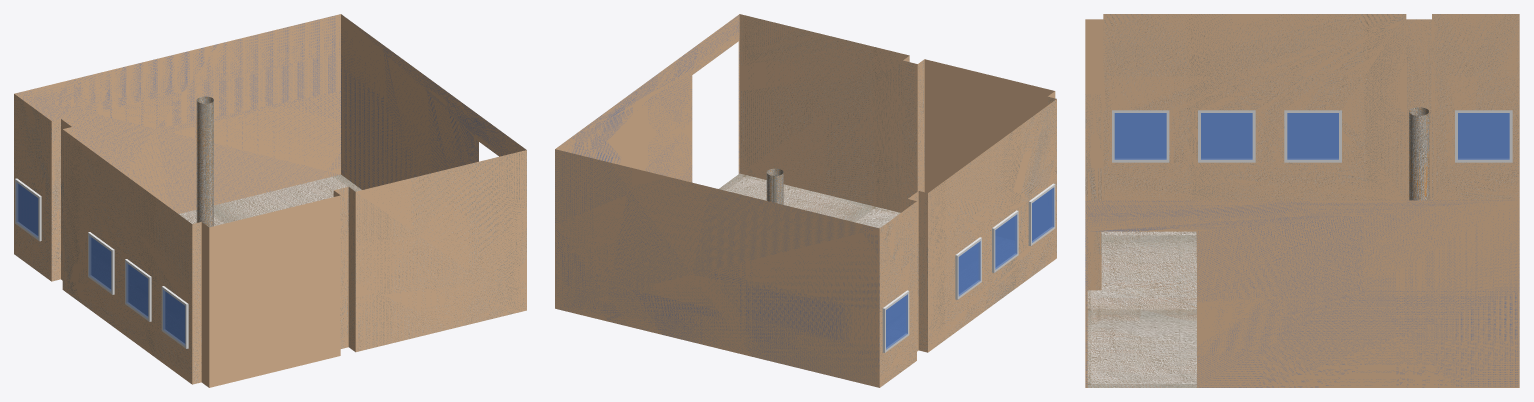
The model's file is AUL021.obj.
The picture shows the model from 3 angles, left to right: view 1: azimuth 30°, elevation 25°; view 2: azimuth 150°, elevation 25°; view 3: azimuth 270°, elevation 25°; orthographic projection. The views are drawn at different scales.
Parts seen in each view (by area): view 1: Mesh13 AUL021 Model, Mesh14 AUL021 Model, Mesh1 Group1 AUL021 Model, Mesh4 Group2 AUL021 Model, Mesh7 Group3 AUL021 Model, Mesh10 Group4 AUL021 Model; view 2: Mesh13 AUL021 Model, Mesh4 Group2 AUL021 Model, Mesh1 Group1 AUL021 Model, Mesh7 Group3 AUL021 Model, Mesh10 Group4 AUL021 Model, Mesh14 AUL021 Model; view 3: Mesh13 AUL021 Model, Mesh1 Group1 AUL021 Model, Mesh4 Group2 AUL021 Model, Mesh7 Group3 AUL021 Model, Mesh10 Group4 AUL021 Model, Mesh14 AUL021 Model.
Part boxes in pixels (left/top/right/bottom): Mesh13 AUL021 Model: left=14, top=14, right=526, bottom=387; Mesh14 AUL021 Model: left=196, top=96, right=213, bottom=227; Mesh1 Group1 AUL021 Model: left=161, top=286, right=188, bottom=348; Mesh4 Group2 AUL021 Model: left=15, top=178, right=41, bottom=241; Mesh7 Group3 AUL021 Model: left=125, top=259, right=151, bottom=321; Mesh10 Group4 AUL021 Model: left=88, top=232, right=114, bottom=294; Mesh13 AUL021 Model: left=555, top=14, right=1056, bottom=387; Mesh4 Group2 AUL021 Model: left=882, top=290, right=909, bottom=352; Mesh1 Group1 AUL021 Model: left=1028, top=183, right=1055, bottom=245; Mesh7 Group3 AUL021 Model: left=992, top=210, right=1018, bottom=272; Mesh10 Group4 AUL021 Model: left=955, top=237, right=981, bottom=299; Mesh14 AUL021 Model: left=766, top=168, right=783, bottom=204; Mesh13 AUL021 Model: left=1085, top=14, right=1519, bottom=387; Mesh1 Group1 AUL021 Model: left=1112, top=110, right=1169, bottom=162; Mesh4 Group2 AUL021 Model: left=1455, top=110, right=1512, bottom=162; Mesh7 Group3 AUL021 Model: left=1198, top=110, right=1255, bottom=162; Mesh10 Group4 AUL021 Model: left=1284, top=110, right=1341, bottom=162; Mesh14 AUL021 Model: left=1409, top=107, right=1429, bottom=200.
Size of the model in its own units: 7.72 by 3.85 by 7.55.
7 materials, 2 textured.
